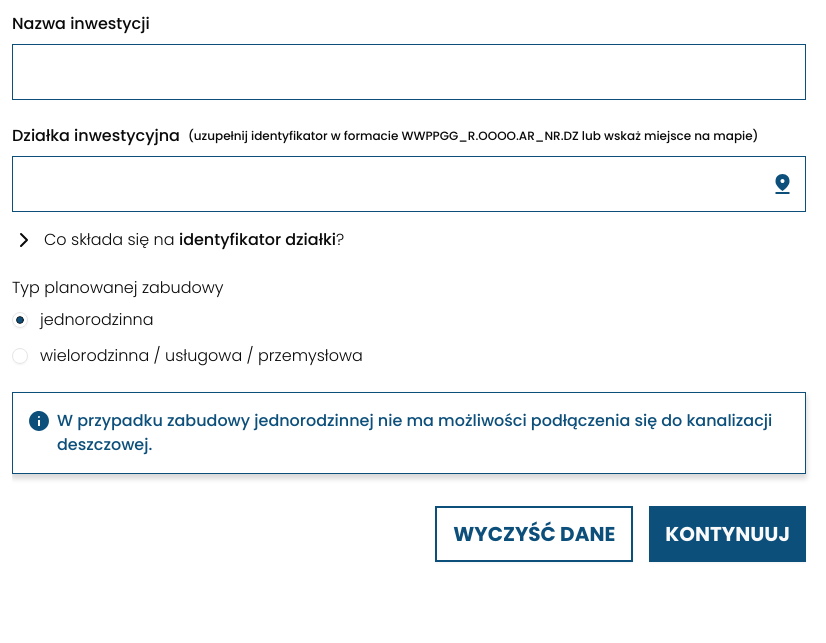
Test: InwestycjaForm component › should show validation error when submitting empty form
The image size is (826, 643).
Click the button "Kontynuuj".
click(728, 534)  # box left=649, top=506, right=806, bottom=562
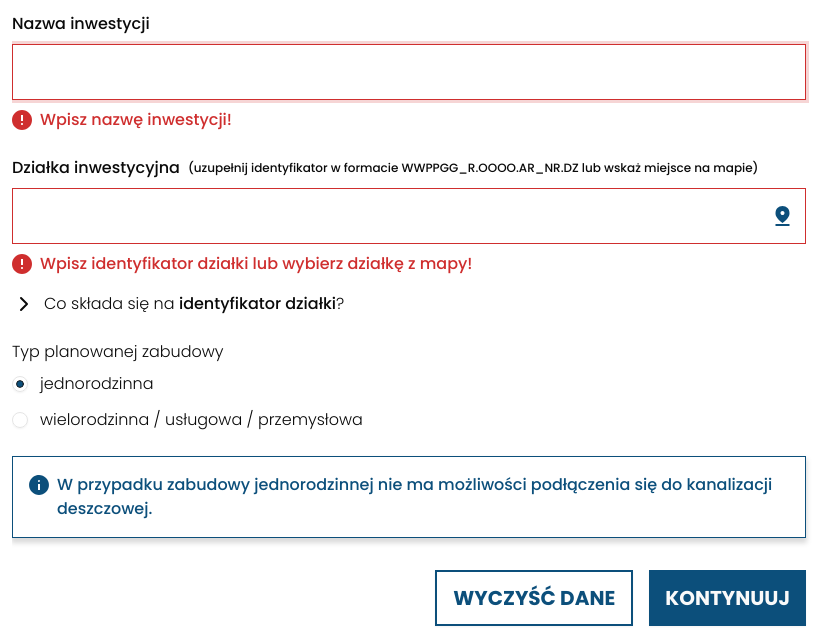
Now the text "Wpisz nazwę inwestycji!" is shown, box left=12, top=108, right=232, bottom=131
